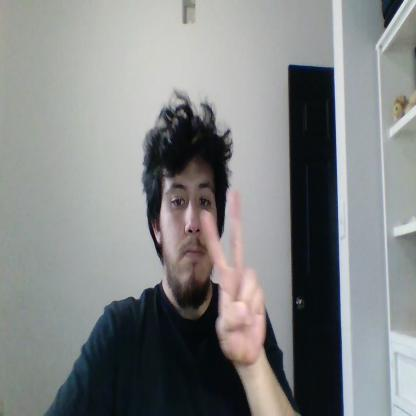V: (200, 190, 266, 362)
